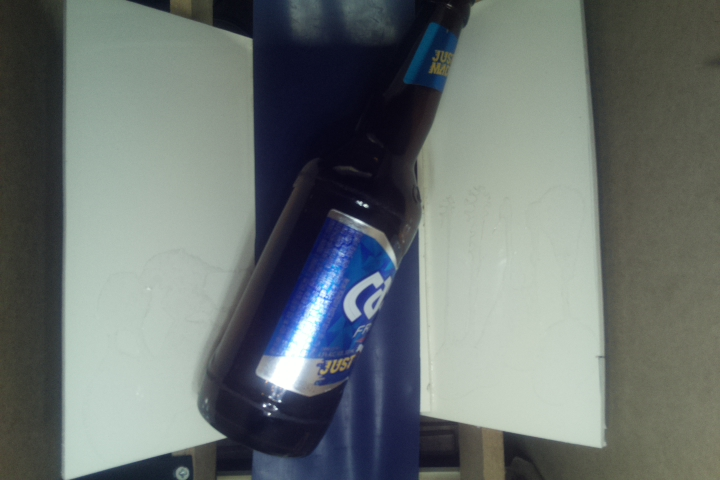makju: (194, 1, 479, 458)
